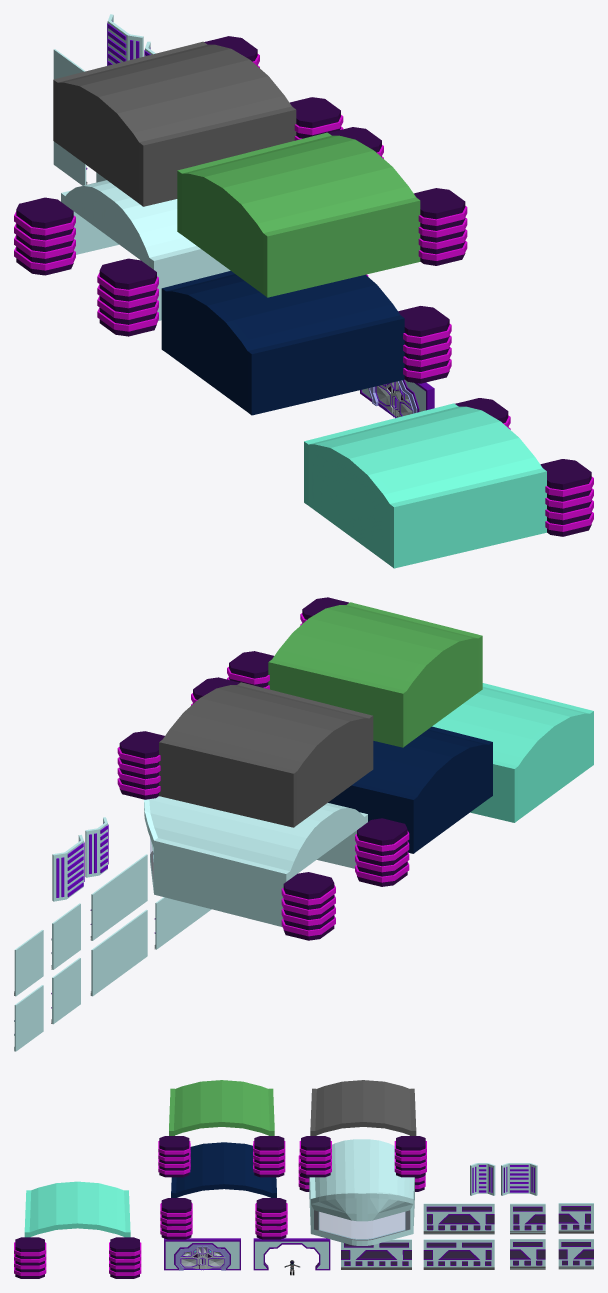
Rendered from Partes Nave.fbx.
3 renders of one model, top to bottom at view 1: azimuth 30°, elevation 25°; view 2: azimuth 150°, elevation 25°; view 3: azimuth 270°, elevation 25°, orthographic. The views are drawn at different scales.
Visible parts, largest first — view 1: Cuarto.007, Cuarto.008, Cuarto.003, Cuarto.002, Cuarto.001, Cuarto.005, Bse.005, Puerta; view 2: Cuarto.002, Cuarto.001, Cuarto.007, Cuarto.008, Cuarto.003, Bse.002, Bse.001, Cuarto.005, Procedural pared, Bse.005, Bse.006, Bse.003 (+2 smaller); view 3: Cuarto.001, Cuarto.007, Cuarto.002, Cuarto.008, Cuarto.003, Bse.002, Bse.001, Procedural pared, Marco.001, Puerta, Cuarto.005, Bse.003 (+7 smaller).
Boxes of the visible parts, left/top/right/bottom form: Cuarto.007: left=177, top=127, right=467, bottom=297; Cuarto.008: left=304, top=398, right=593, bottom=568; Cuarto.003: left=161, top=271, right=451, bottom=415; Cuarto.002: left=53, top=36, right=343, bottom=206; Cuarto.001: left=14, top=180, right=230, bottom=336; Cuarto.005: left=107, top=14, right=143, bottom=65; Bse.005: left=53, top=141, right=87, bottom=185; Puerta: left=360, top=379, right=434, bottom=412; Cuarto.002: left=117, top=677, right=373, bottom=827; Cuarto.001: left=144, top=796, right=409, bottom=940; Cuarto.007: left=227, top=597, right=482, bottom=747; Cuarto.008: left=432, top=683, right=593, bottom=822; Cuarto.003: left=328, top=726, right=492, bottom=853; Bse.002: left=90, top=854, right=147, bottom=940; Bse.001: left=90, top=909, right=147, bottom=996; Cuarto.005: left=52, top=834, right=84, bottom=901; Procedural pared: left=154, top=897, right=211, bottom=949; Bse.005: left=14, top=985, right=43, bottom=1051; Bse.006: left=14, top=930, right=43, bottom=996; Bse.003: left=51, top=903, right=80, bottom=969; Cuarto.001: left=298, top=1139, right=425, bottom=1245; Cuarto.007: left=158, top=1080, right=285, bottom=1177; Cuarto.002: left=299, top=1080, right=426, bottom=1177; Cuarto.008: left=14, top=1181, right=141, bottom=1278; Cuarto.003: left=160, top=1142, right=287, bottom=1239; Bse.002: left=423, top=1203, right=494, bottom=1234; Bse.001: left=423, top=1239, right=494, bottom=1269; Procedural pared: left=341, top=1239, right=411, bottom=1269; Marco.001: left=253, top=1238, right=330, bottom=1270; Puerta: left=164, top=1238, right=240, bottom=1270; Cuarto.005: left=501, top=1163, right=537, bottom=1195; Bse.003: left=510, top=1203, right=545, bottom=1234.
Size of the model in its own units: 5689 by 5844 by 21072.
